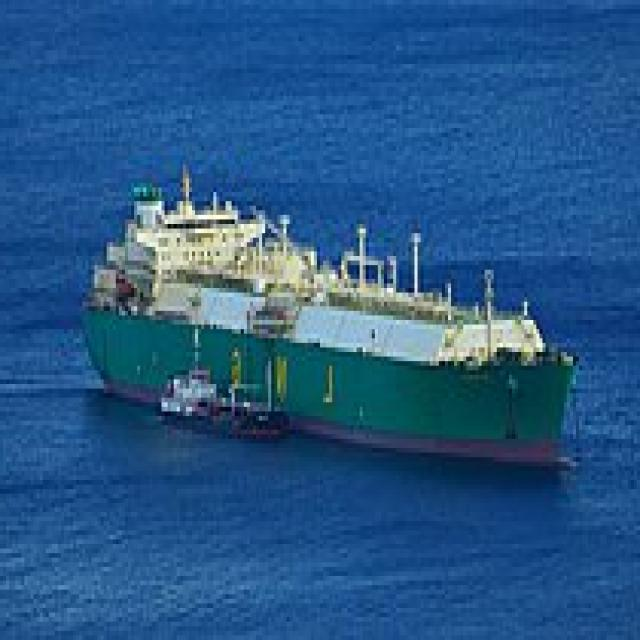Tanker: (79, 146, 585, 466)
